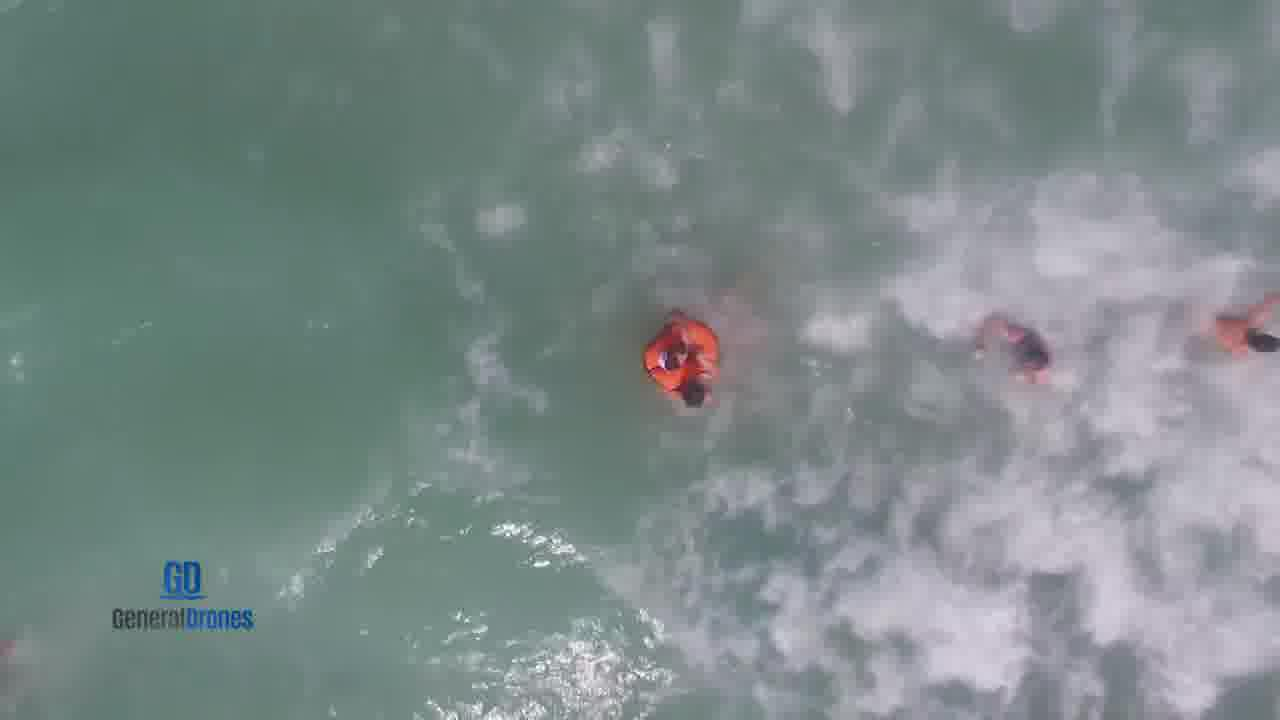human: (635, 297, 743, 420), (956, 294, 1074, 403), (1202, 284, 1280, 365)
